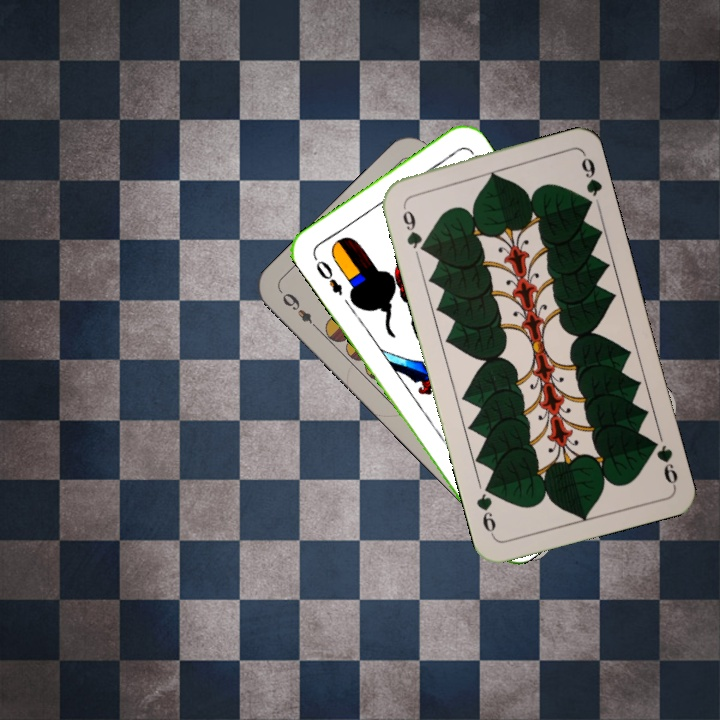E9: (278, 289, 323, 334)
EO: (311, 256, 345, 298)
G9: (645, 434, 680, 489), (398, 200, 429, 256)
